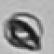correct: (2, 8, 50, 52)
